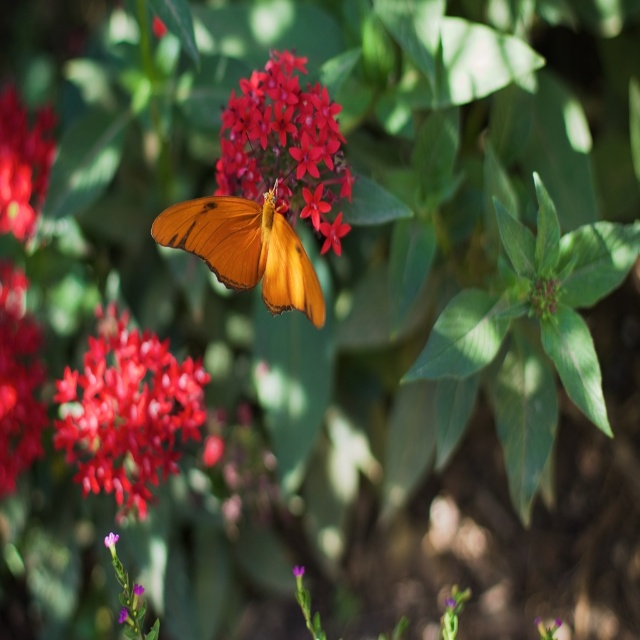Moths and butterflies: (150, 133, 328, 332)
